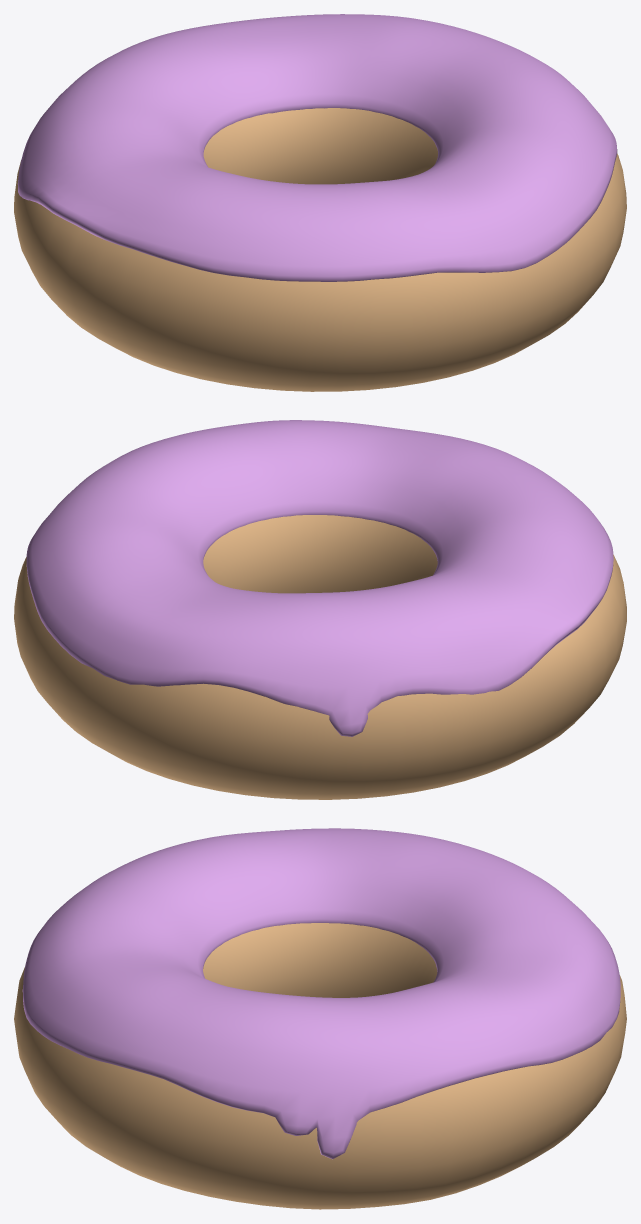
File: donut.fbx
3 views of the same model, one above another, from view 1: azimuth 30°, elevation 25°; view 2: azimuth 150°, elevation 25°; view 3: azimuth 270°, elevation 25° (orthographic).
Parts seen in each view (by area): view 1: Icing, Donut; view 2: Icing, Donut; view 3: Icing, Donut.
Part boxes in pixels (<box>): Icing: <box>17,14,617,281</box>; Donut: <box>14,108,626,391</box>; Icing: <box>26,420,613,736</box>; Donut: <box>14,515,626,799</box>; Icing: <box>22,828,620,1159</box>; Donut: <box>14,923,626,1209</box>.
Bounding box in the file's own units: 15.18 × 5.19 × 14.86.
